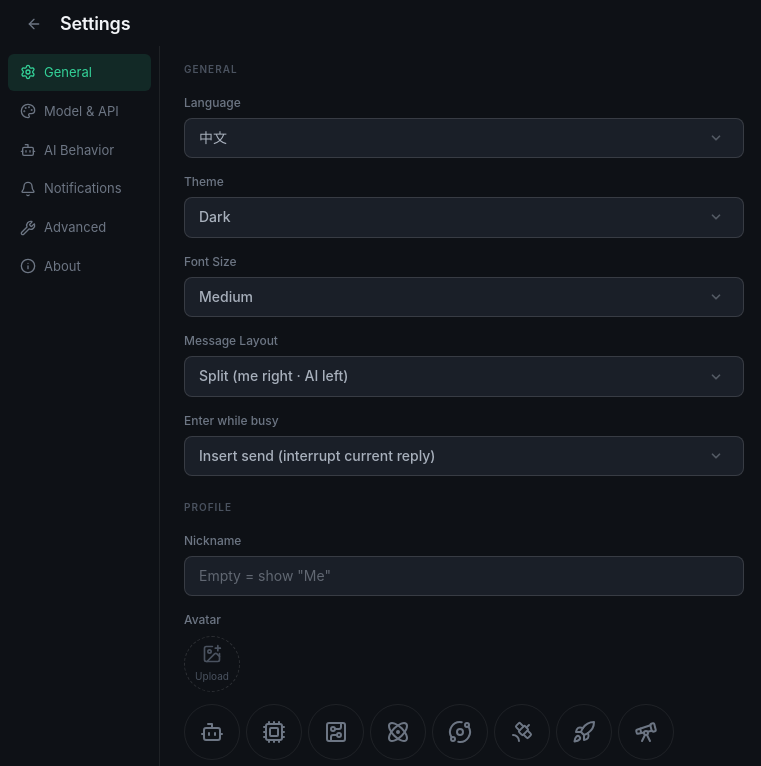
Test: SettingsPanel › notify tab renders global toggle and 4 scenario toggles
The image size is (761, 766).
Click the button with class "f-settings-nav-item" showing "Notifications".
click(80, 189)  # box [8, 170, 151, 207]
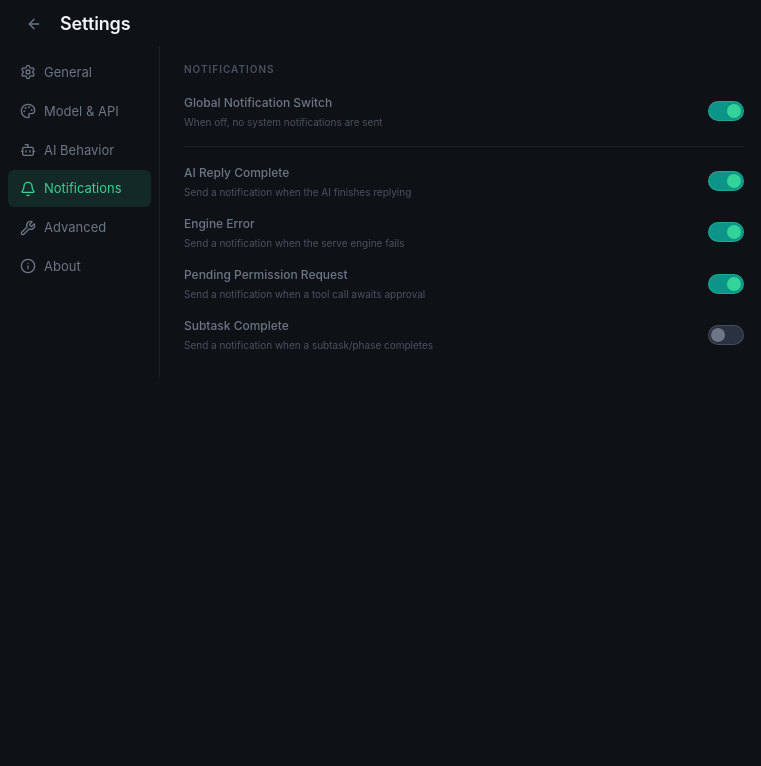
Expected: the element that starts with "Notifications" shows "Global Notification Switch", [184, 94, 332, 110]
Expected: the element that starts with "Notifications" shows "AI Reply Complete", [184, 165, 289, 180]
Expected: the element that starts with "Notifications" shows "Engine Error", [184, 216, 255, 231]
关闭全局开关 → 场景开关禁用（opt-in）
Click the button with class "settings-toggle__switch" in the row of "Global Notification Switch".
click(726, 111)  # box [708, 101, 744, 121]
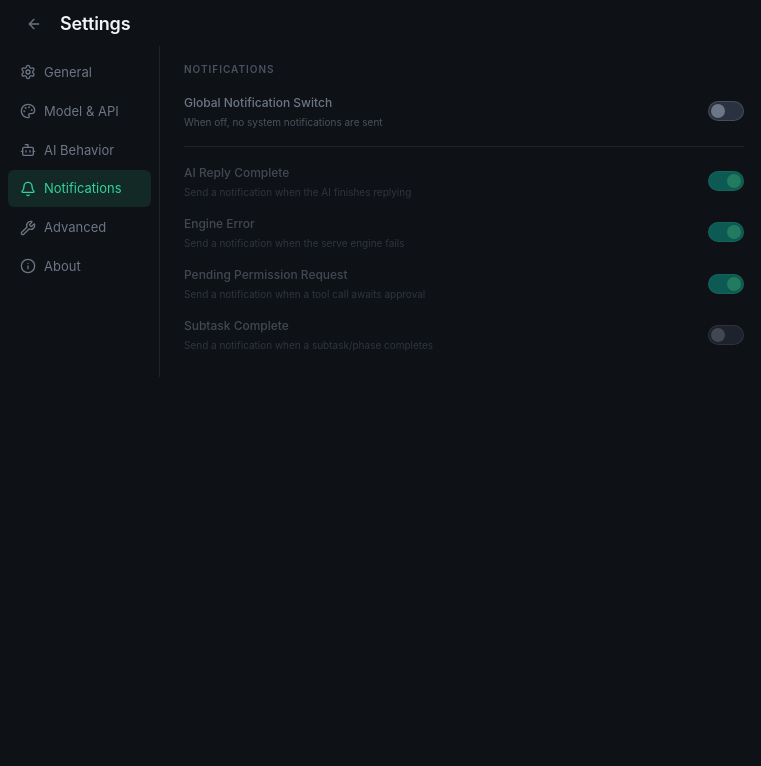
Expected: the button with class "settings-toggle__switch" in the row of "AI Reply Complete" is disabled, [708, 171, 744, 191]
